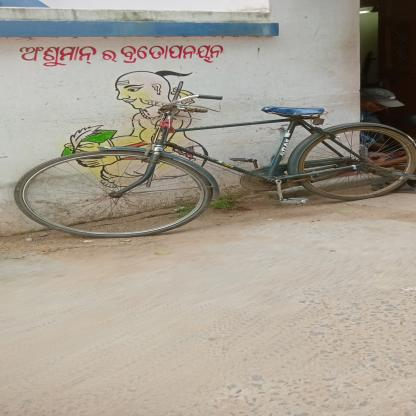bike: (1, 83, 416, 244)
